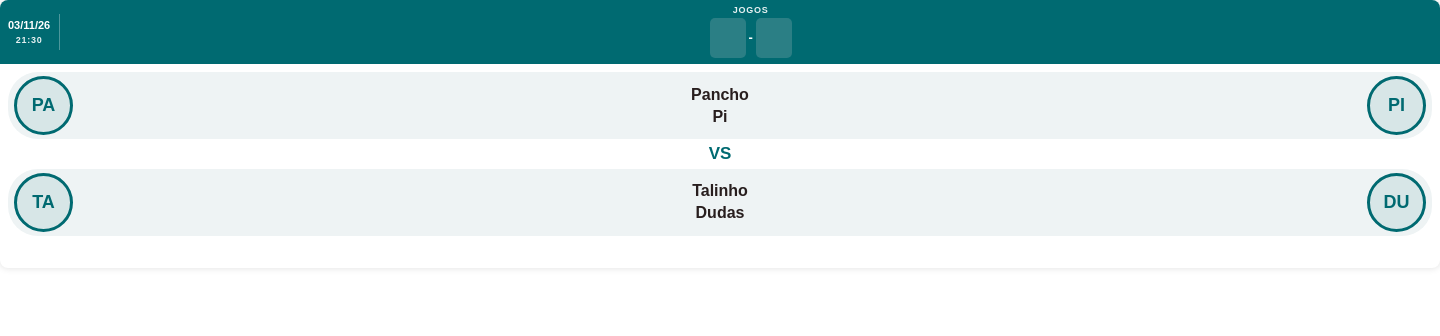
Test: ResultCard › Clássica: one pair of games
Type "5" into the field named "Jogos casa" at (728, 38), box [710, 18, 746, 58]
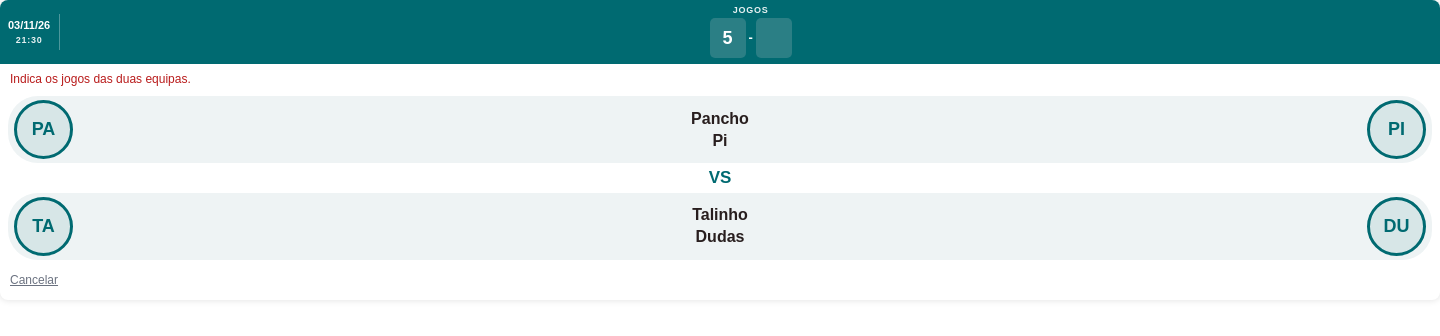
Type "4" into the field named "Jogos fora" at (774, 38), box [756, 18, 792, 58]
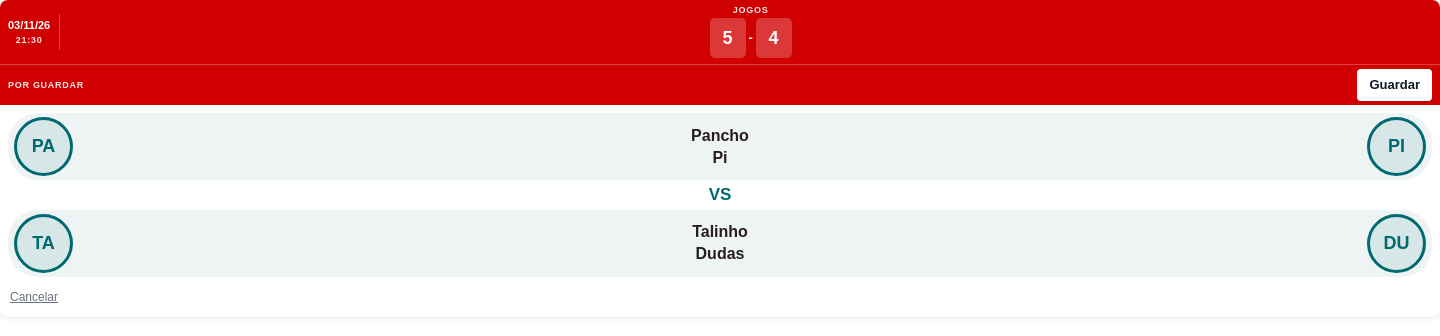
Expected: the button "Guardar" is shown, [1357, 69, 1432, 101]
